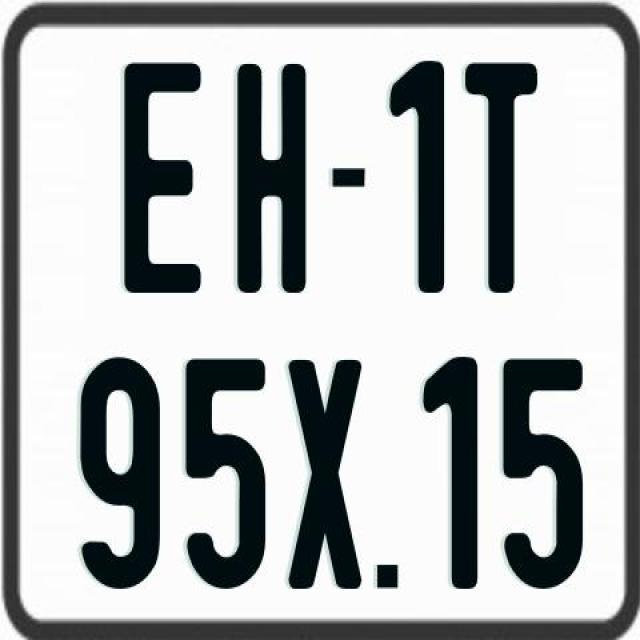1: (423, 356, 481, 598), (390, 56, 446, 291)
5: (182, 355, 266, 592), (500, 357, 580, 587)
9: (80, 356, 166, 598)
E: (124, 63, 202, 300)
H: (236, 62, 306, 296)
T: (462, 58, 538, 296)
X: (288, 356, 364, 594)
